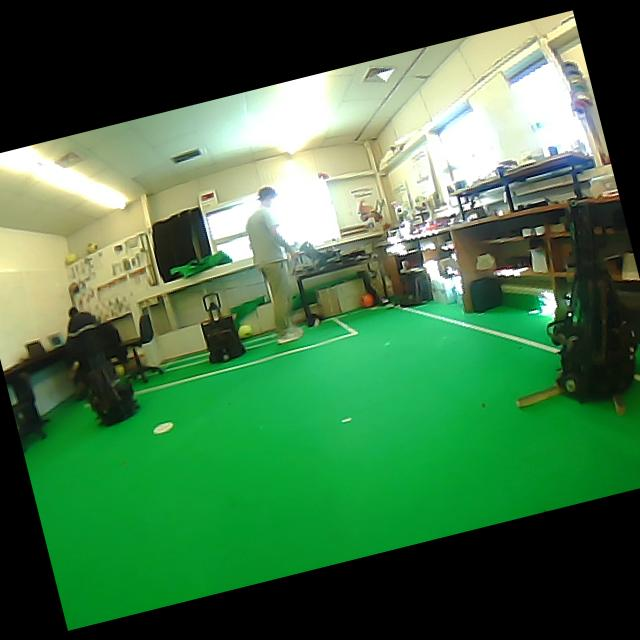ball: (237, 324, 252, 337), (361, 294, 373, 306), (65, 253, 78, 264), (114, 364, 125, 375), (87, 243, 96, 253)
robot: (548, 201, 637, 402), (86, 362, 138, 424), (200, 292, 244, 362)
